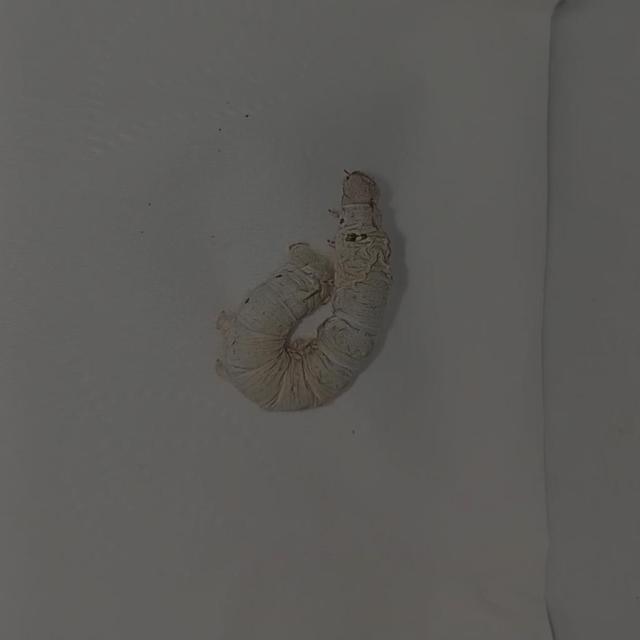Healthy: (190, 154, 426, 438)
